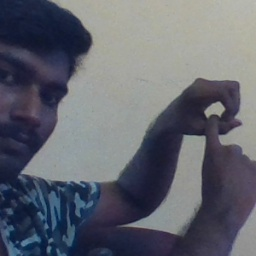Q: (144, 71, 256, 197)
